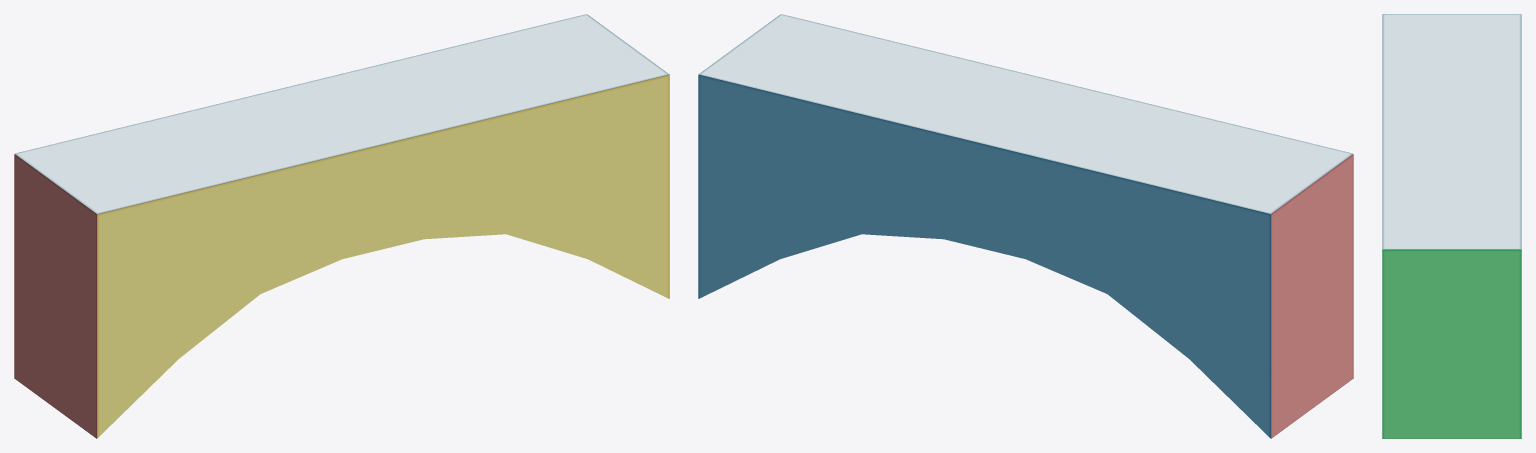
File: arch2x075.fbx
3 views of the same model, side by side, from view 1: azimuth 30°, elevation 25°; view 2: azimuth 150°, elevation 25°; view 3: azimuth 270°, elevation 25° (orthographic). The views are drawn at different scales.
Parts seen in each view (by area): view 1: cuboid; view 2: cuboid; view 3: cuboid.
Part boxes in pixels (x1=…): cuboid: x1=14, y1=14, x2=669, y2=438; cuboid: x1=698, y1=14, x2=1353, y2=438; cuboid: x1=1382, y1=14, x2=1521, y2=438.
Bounding box in the file's own units: 200 × 75 × 50.
